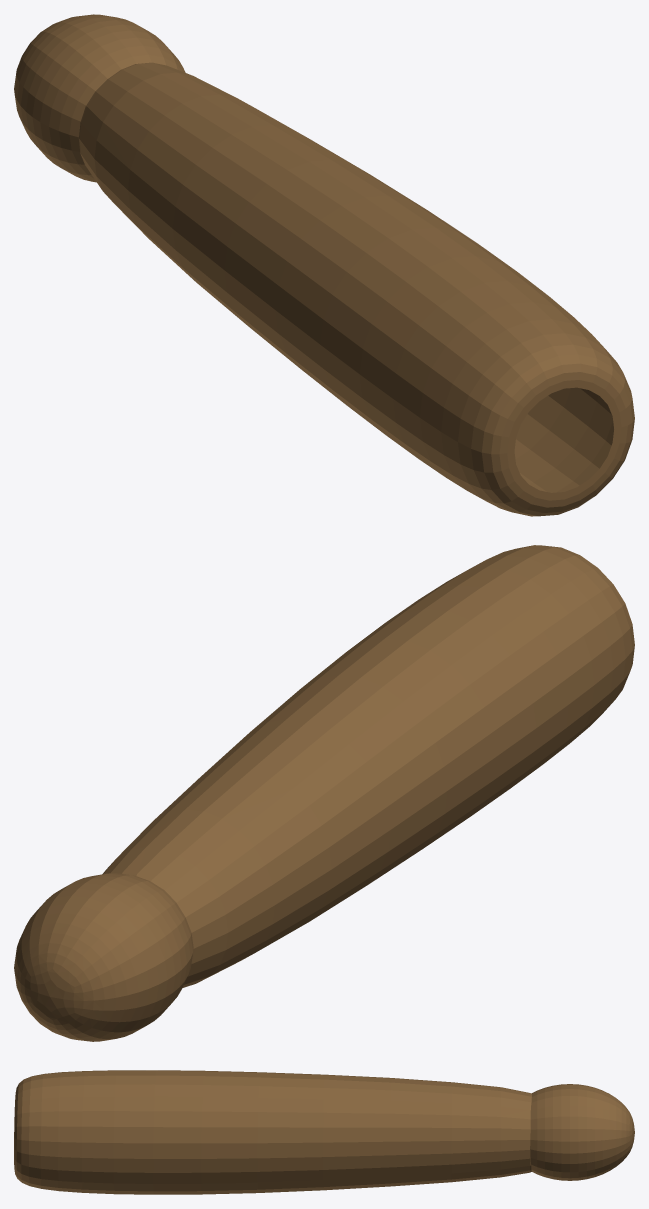
File: REsegment_joint_visu.dae
The picture shows the model from 3 angles, top to bottom: view 1: azimuth 30°, elevation 25°; view 2: azimuth 150°, elevation 25°; view 3: azimuth 270°, elevation 25°; orthographic projection. The views are drawn at different scales.
Visible parts, largest first — view 1: node; view 2: node; view 3: node.
Part boxes in pixels (x1,y1,x2,y2): node: (14, 14, 634, 516); node: (14, 545, 634, 1041); node: (14, 1070, 634, 1194).
Size of the model in its own units: 0.0388 by 0.0391 by 0.1928.
